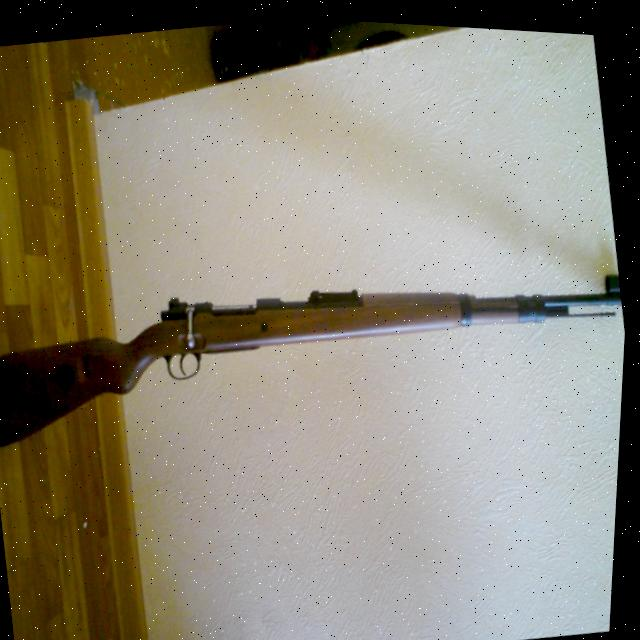firearm: (0, 214, 631, 478)
